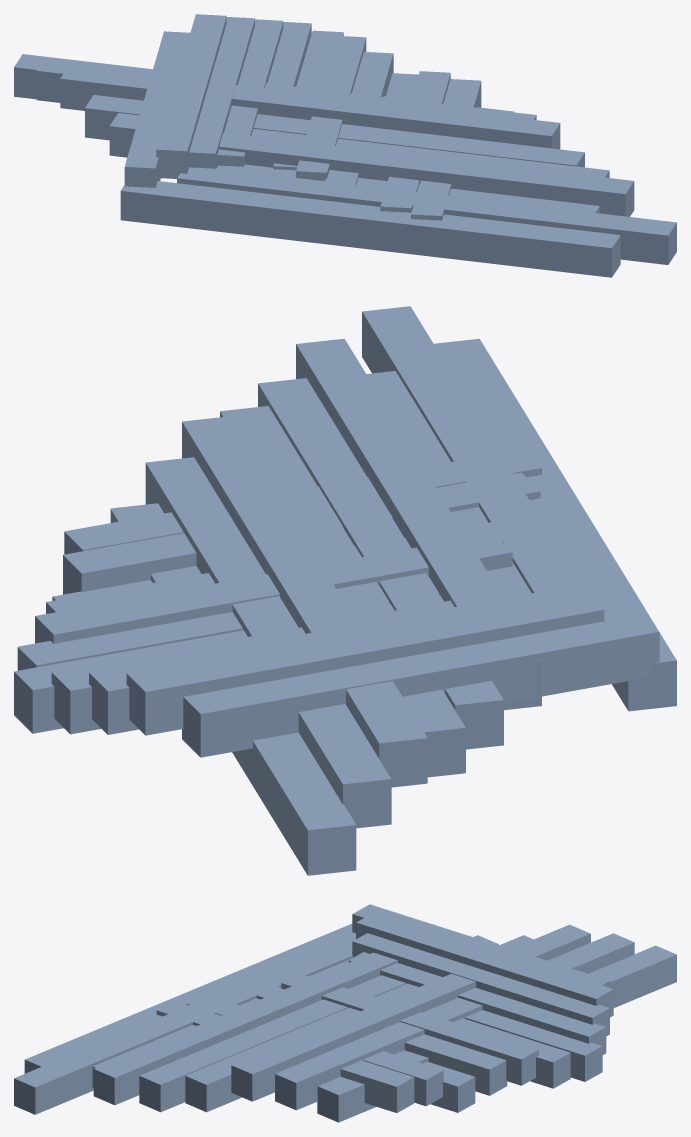
Rendered from floor_crystal_rectangle_01.fbx.
3 renders of one model, top to bottom at view 1: azimuth 30°, elevation 25°; view 2: azimuth 150°, elevation 25°; view 3: azimuth 270°, elevation 25°, orthographic. The views are drawn at different scales.
Visible parts, largest first — view 1: floor_crystal_rectangle_01; view 2: floor_crystal_rectangle_01; view 3: floor_crystal_rectangle_01.
Part boxes in pixels (x1=…): floor_crystal_rectangle_01: x1=14, y1=14, x2=676, y2=277; floor_crystal_rectangle_01: x1=14, y1=306, x2=676, y2=875; floor_crystal_rectangle_01: x1=14, y1=904, x2=676, y2=1122.
Bounding box in the file's own units: 1.5 × 0.2365 × 2.43.
